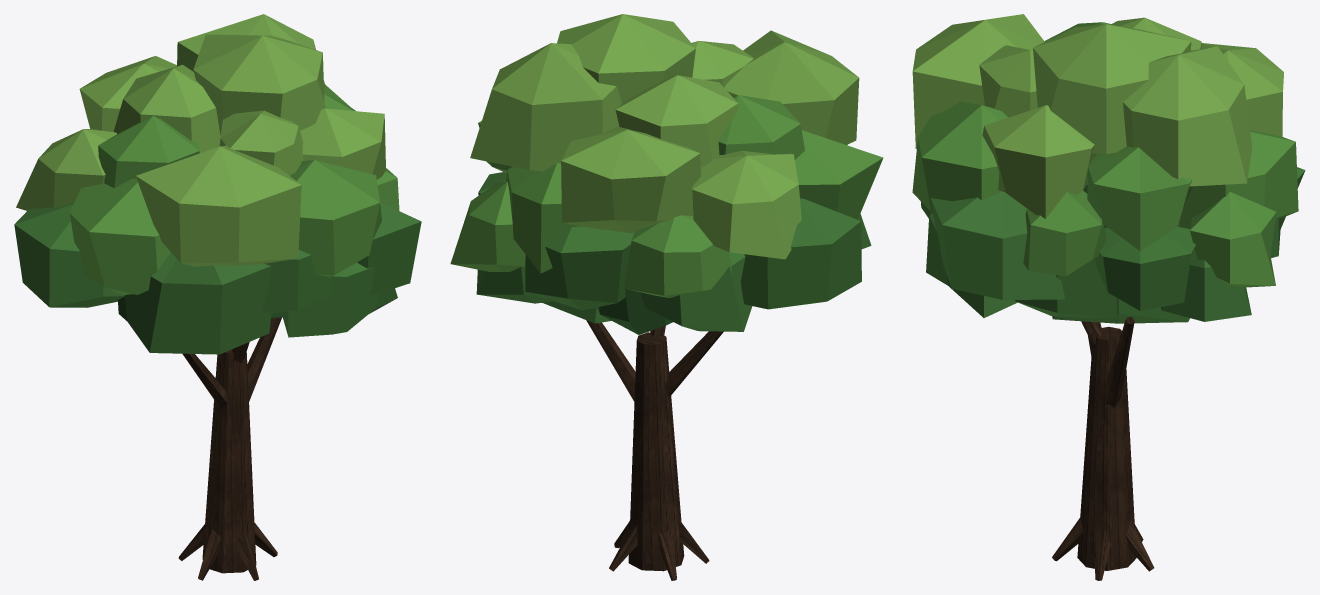
Rendered from tree_broadleaf_01.glb.
3 renders of one model, left to right at view 1: azimuth 30°, elevation 25°; view 2: azimuth 150°, elevation 25°; view 3: azimuth 270°, elevation 25°, orthographic. The views are drawn at different scales.
Visible parts, largest first — view 1: tree_broadleaf_01; view 2: tree_broadleaf_01; view 3: tree_broadleaf_01.
Boxes of the visible parts, x1=… form: tree_broadleaf_01: x1=14, y1=14, x2=421, y2=580; tree_broadleaf_01: x1=450, y1=14, x2=883, y2=580; tree_broadleaf_01: x1=912, y1=14, x2=1305, y2=580.
Size of the model in its own units: 4.62 by 6.59 by 4.25.
Materials: 5 (2 with a texture image).
